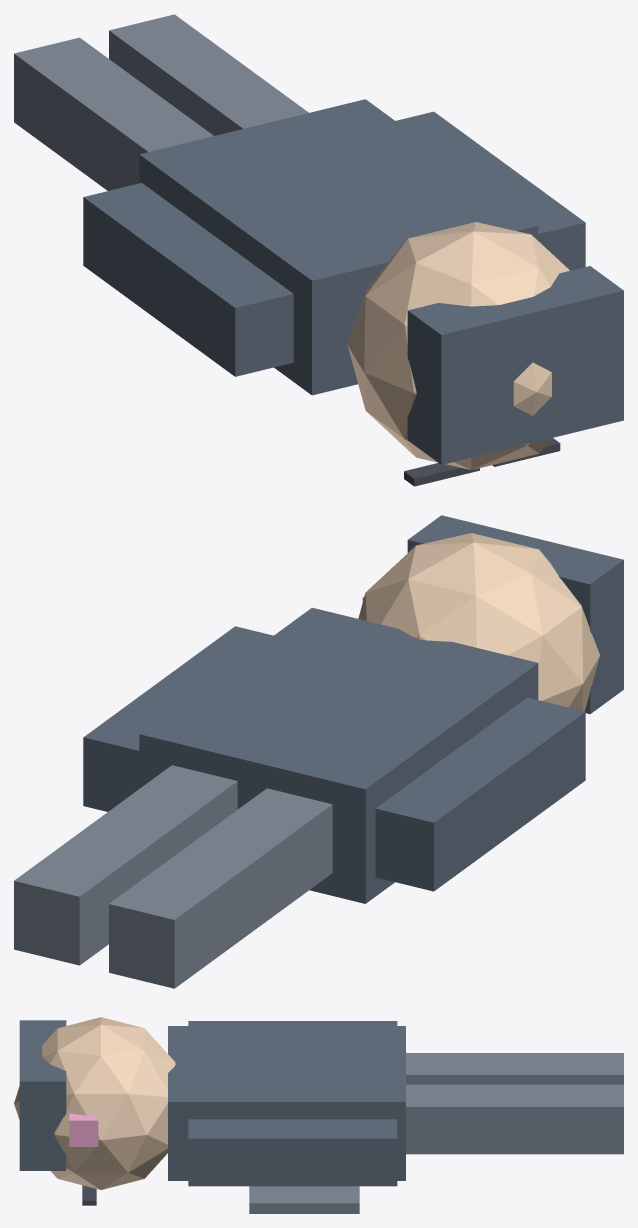
The model's file is legal_variant_1.glb.
The picture shows the model from 3 angles, top to bottom: view 1: azimuth 30°, elevation 25°; view 2: azimuth 150°, elevation 25°; view 3: azimuth 270°, elevation 25°; orthographic projection. The views are drawn at different scales.
Parts seen in each view (by area): view 1: torso_2, hair_6, arm_l_3, head_5, leg_l_0, leg_r_1, arm_r_4, glasses_l_10; view 2: torso_2, leg_l_0, arm_l_3, head_5, leg_r_1, arm_r_4, hair_6; view 3: torso_2, head_5, leg_r_1, arm_r_4, leg_l_0, hair_6, tablet_9, arm_l_3, earring_or_badge_12.
Part boxes in pixels (x1=…): torso_2: x1=139, y1=99, x2=538, y2=395; hair_6: x1=407, y1=266, x2=623, y2=464; arm_l_3: x1=83, y1=183, x2=293, y2=376; head_5: x1=347, y1=222, x2=569, y2=469; leg_l_0: x1=14, y1=37, x2=213, y2=190; leg_r_1: x1=109, y1=14, x2=308, y2=135; arm_r_4: x1=396, y1=111, x2=585, y2=270; glasses_l_10: x1=404, y1=463, x2=479, y2=486; torso_2: x1=139, y1=607, x2=538, y2=903; leg_l_0: x1=109, y1=788, x2=332, y2=988; arm_l_3: x1=375, y1=697, x2=585, y2=891; head_5: x1=358, y1=533, x2=599, y2=711; leg_r_1: x1=14, y1=765, x2=237, y2=965; arm_r_4: x1=83, y1=626, x2=273, y2=811; hair_6: x1=407, y1=515, x2=623, y2=714; torso_2: x1=168, y1=1026, x2=405, y2=1180; head_5: x1=14, y1=1017, x2=175, y2=1189; leg_r_1: x1=406, y1=1084, x2=623, y2=1154; arm_r_4: x1=188, y1=1119, x2=397, y2=1186; leg_l_0: x1=406, y1=1053, x2=623, y2=1084; hair_6: x1=19, y1=1020, x2=66, y2=1170; tablet_9: x1=249, y1=1186, x2=359, y2=1213; arm_l_3: x1=188, y1=1021, x2=397, y2=1025; earring_or_badge_12: x1=69, y1=1113, x2=98, y2=1146.
Bounding box in the file's own units: 0.96 × 0.6 × 2.1.
